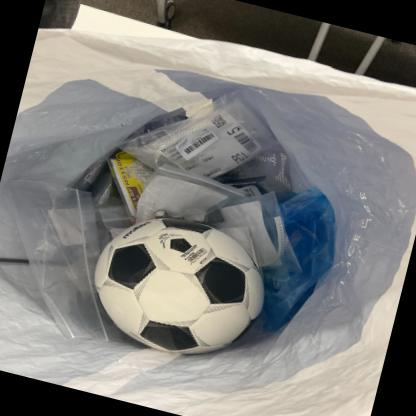ball: (78, 201, 276, 372)
